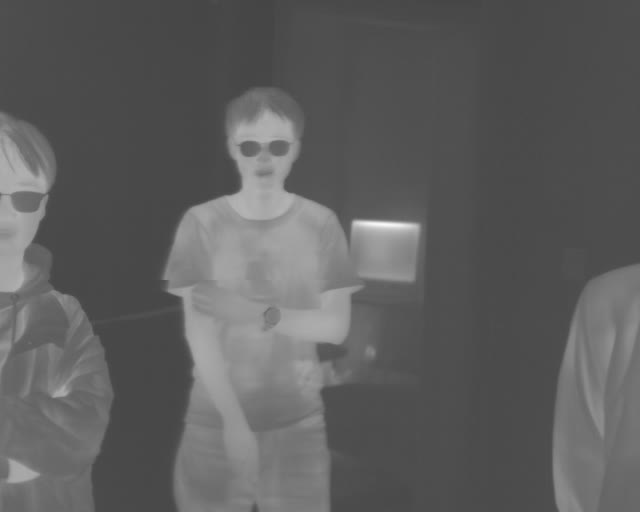face: (223, 85, 305, 191)
